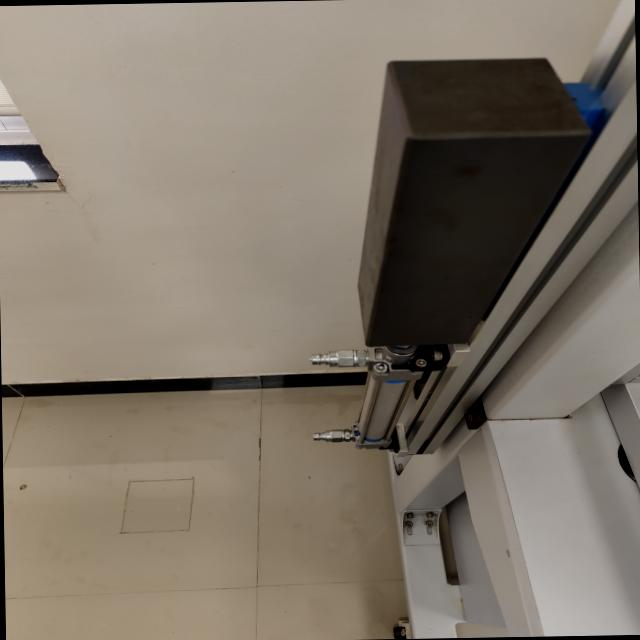load: (296, 51, 622, 456)
